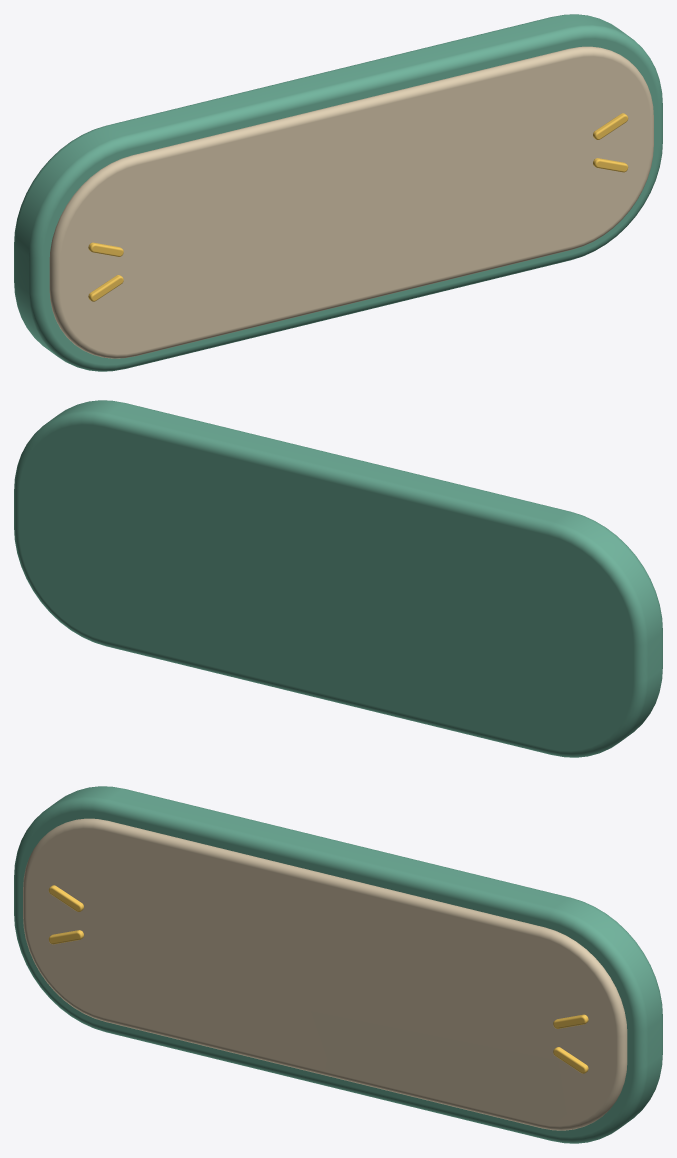
The model's file is score-timer.glb.
The picture shows the model from 3 angles, top to bottom: view 1: azimuth 30°, elevation 25°; view 2: azimuth 150°, elevation 25°; view 3: azimuth 330°, elevation 25°; orthographic projection.
Parts seen in each view (by area): view 1: CreamTimerFace, MintTimerRim; view 2: MintTimerRim; view 3: CreamTimerFace, MintTimerRim.
Part boxes in pixels (box(x1,y1,x2,y2)): CreamTimerFace: box(49, 46, 653, 358); MintTimerRim: box(14, 14, 662, 371); MintTimerRim: box(14, 400, 662, 757); CreamTimerFace: box(23, 818, 627, 1130); MintTimerRim: box(14, 786, 662, 1143).
Size of the model in its own units: 7.55 by 2.65 by 0.695.
